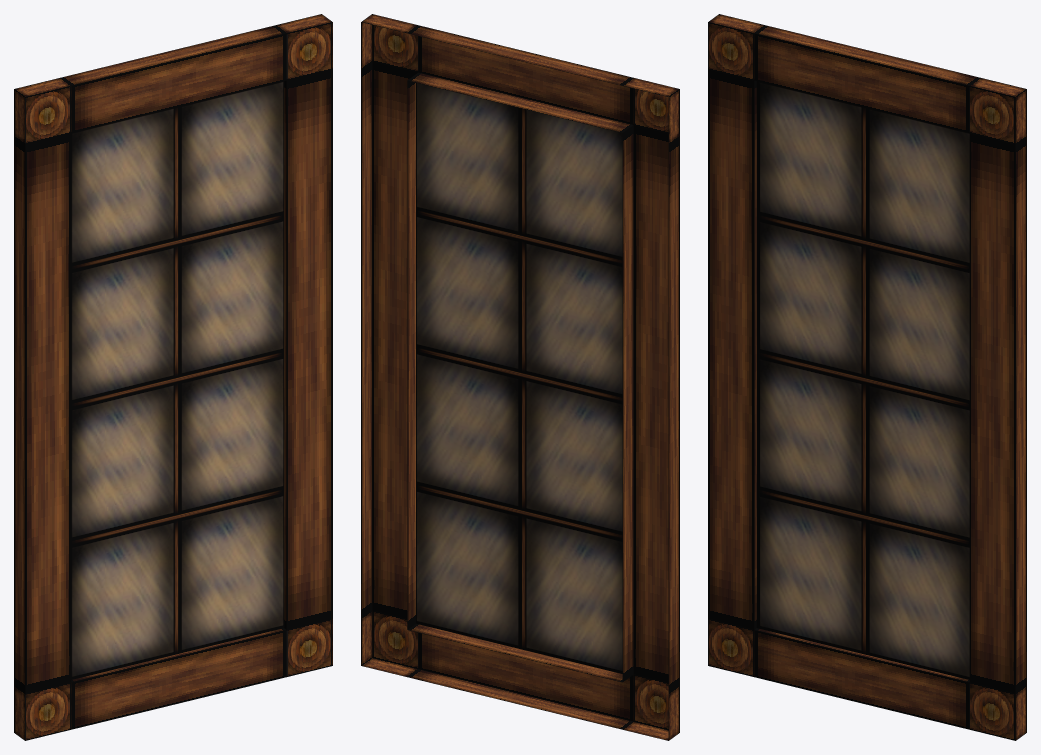
The model's file is Exterior Window 1.fbx.
The picture shows the model from 3 angles, left to right: view 1: azimuth 30°, elevation 25°; view 2: azimuth 150°, elevation 25°; view 3: azimuth 330°, elevation 25°; orthographic projection.
Visible parts, largest first — view 1: Cube.001, Cube; view 2: Cube.001, Cube; view 3: Cube.001, Cube.
Part boxes in pixels (left/top/right/bottom): Cube.001: left=71, top=81, right=284, bottom=679; Cube: left=14, top=14, right=332, bottom=740; Cube.001: left=416, top=83, right=622, bottom=673; Cube: left=361, top=14, right=679, bottom=740; Cube.001: left=756, top=81, right=969, bottom=679; Cube: left=708, top=14, right=1026, bottom=740.
Bounding box in the file's own units: 2 × 0.125 × 4.
